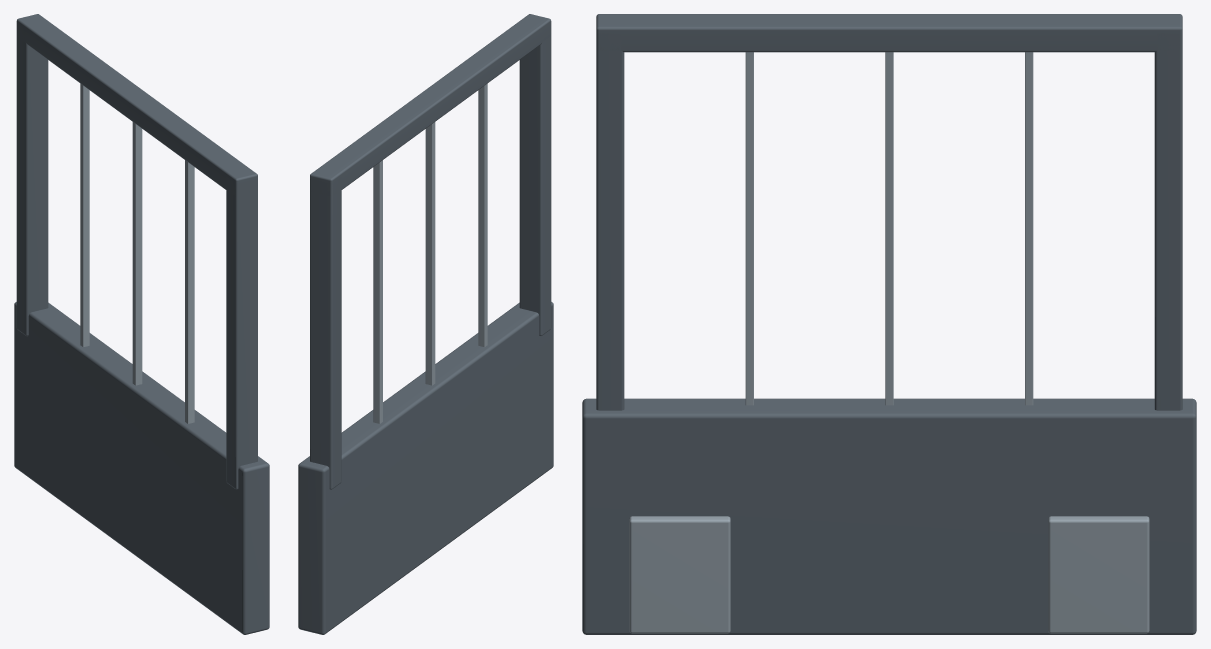
The model's file is SM_Carriage.fbx.
The picture shows the model from 3 angles, left to right: view 1: azimuth 30°, elevation 25°; view 2: azimuth 150°, elevation 25°; view 3: azimuth 270°, elevation 25°; orthographic projection. The views are drawn at different scales.
Parts seen in each view (by area): view 1: SM_Carriage; view 2: SM_Carriage; view 3: SM_Carriage.
Part boxes in pixels (box(x1,y1,x2,y2)): SM_Carriage: box(14, 14, 269, 634); SM_Carriage: box(298, 14, 553, 634); SM_Carriage: box(582, 14, 1196, 634).
Bounding box in the file's own units: 88 × 8 × 95.5.
